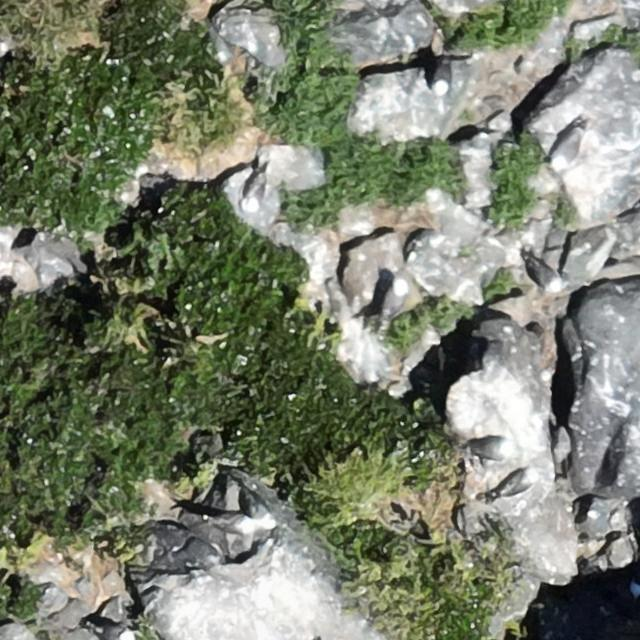umineko: (489, 466, 536, 506), (553, 121, 589, 170), (242, 159, 274, 212), (464, 434, 514, 462), (208, 510, 251, 535), (532, 262, 562, 290), (385, 283, 407, 316), (92, 624, 128, 640), (434, 60, 452, 92), (630, 580, 639, 600)
